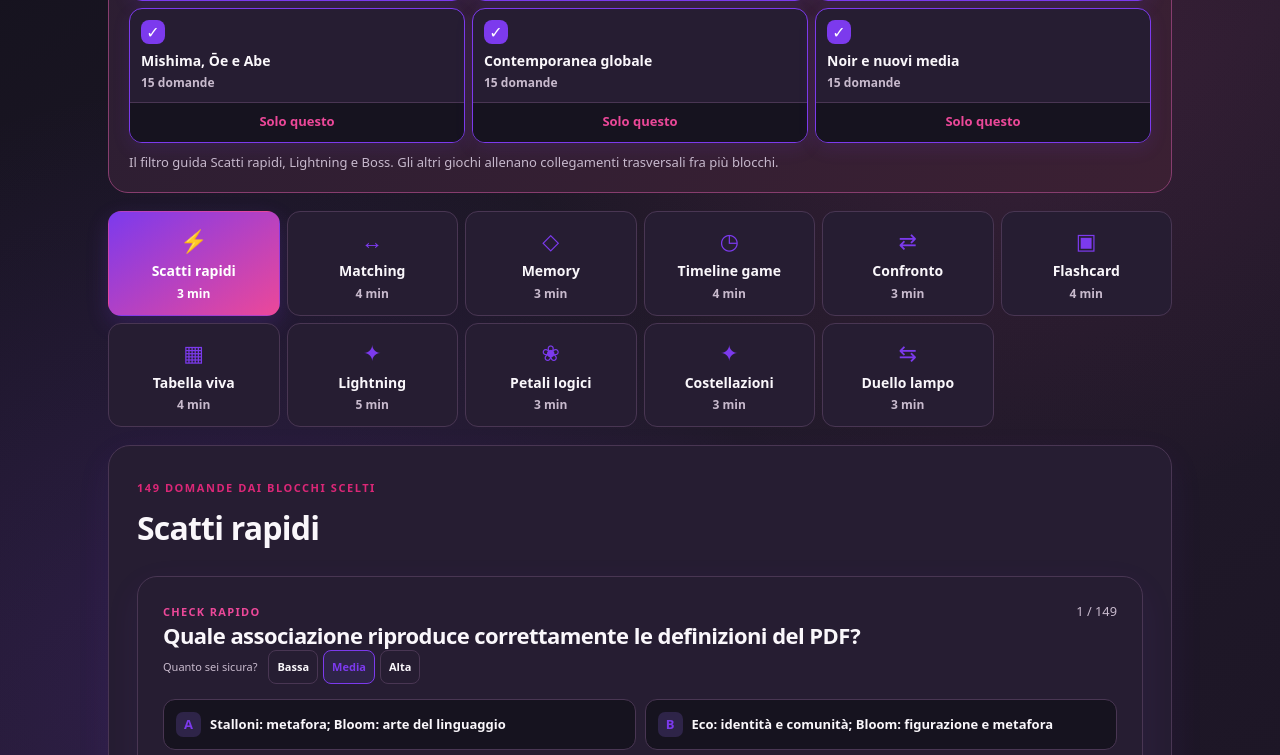
Scenario: palestra zero attrito › apre un lightning round da dieci domande
(page scrolled)
Click the button "✦ Lightning 5 min" at (372, 375), box [286,323,458,427]
(page scrolled)
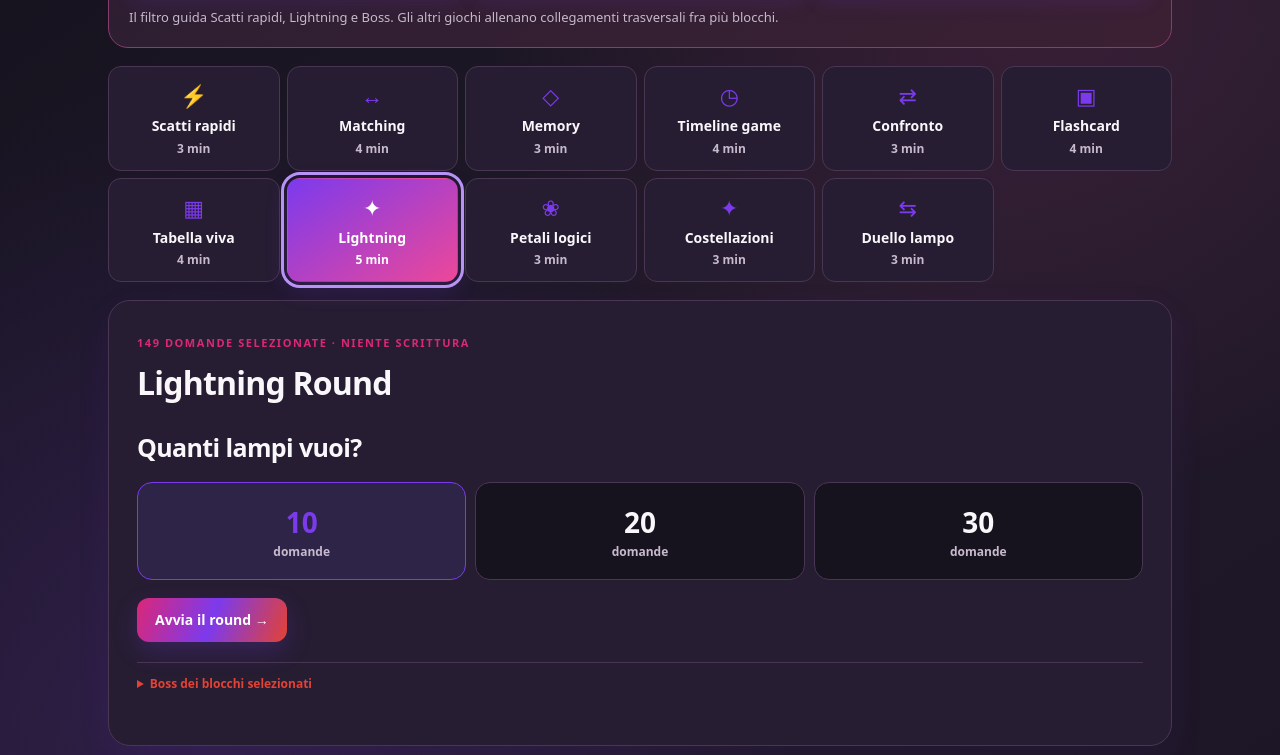
Click the button "Avvia il round →" at (212, 620), box [137,598,287,642]
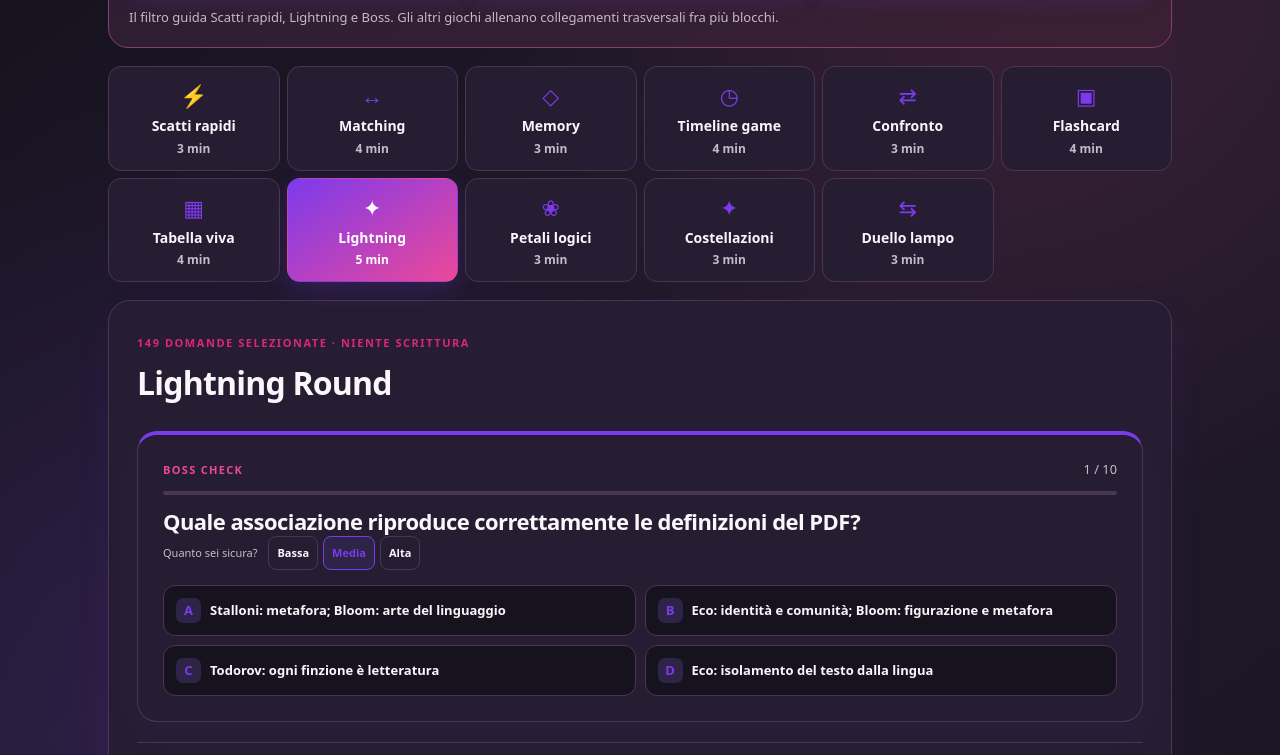
Expected: the text "1 / 10" is shown, [1084,460,1117,479]
